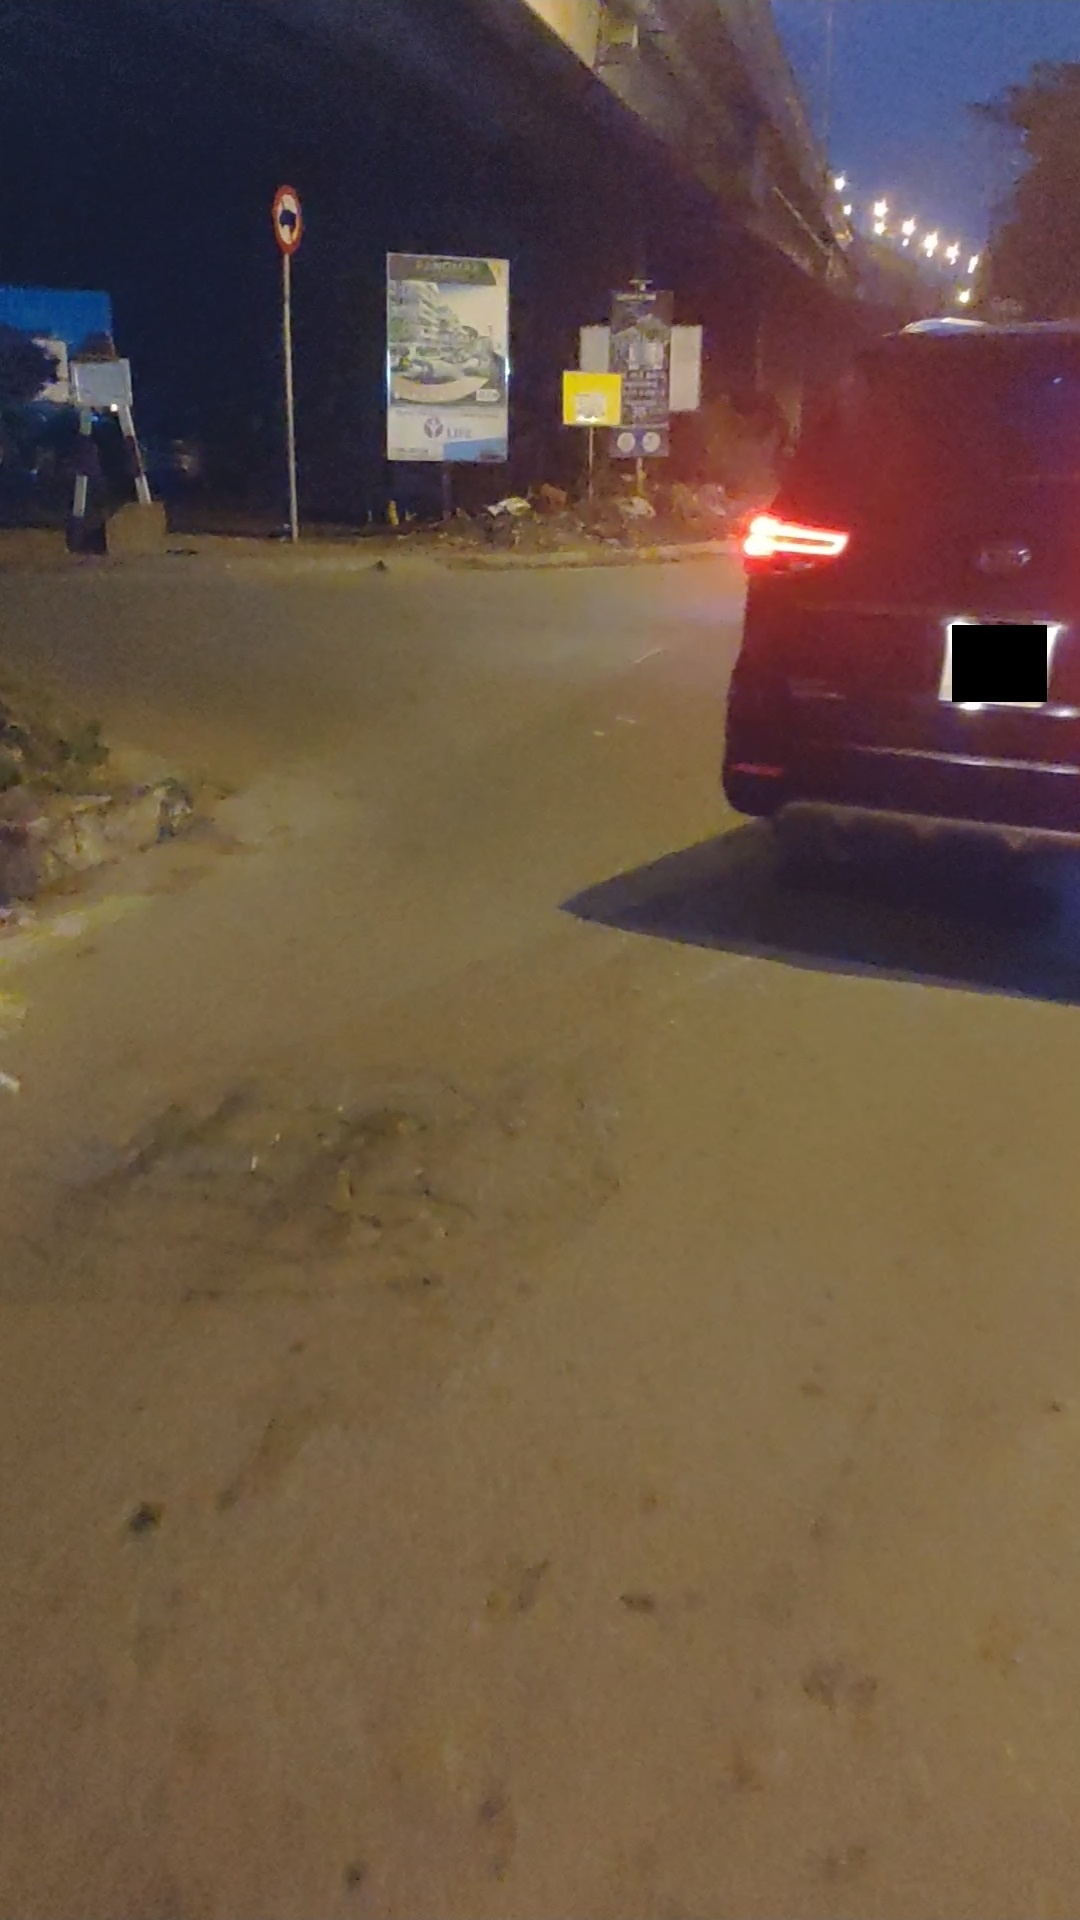hole: (1, 1091, 578, 1298)
